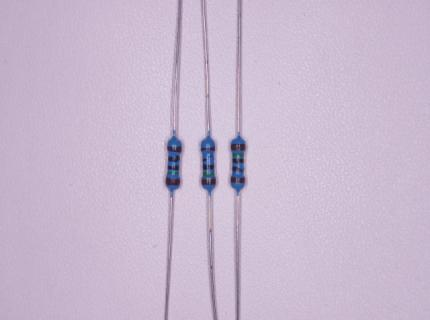Black band: (202, 164, 215, 170), (232, 166, 244, 172), (168, 156, 180, 162), (168, 165, 179, 171), (232, 158, 244, 163), (202, 157, 214, 162)
Brown band: (165, 177, 180, 186), (231, 144, 246, 151), (231, 177, 245, 184), (201, 179, 216, 185), (167, 146, 182, 152), (200, 147, 216, 151)
Green band: (203, 172, 215, 176), (167, 172, 179, 175), (233, 154, 244, 157)
